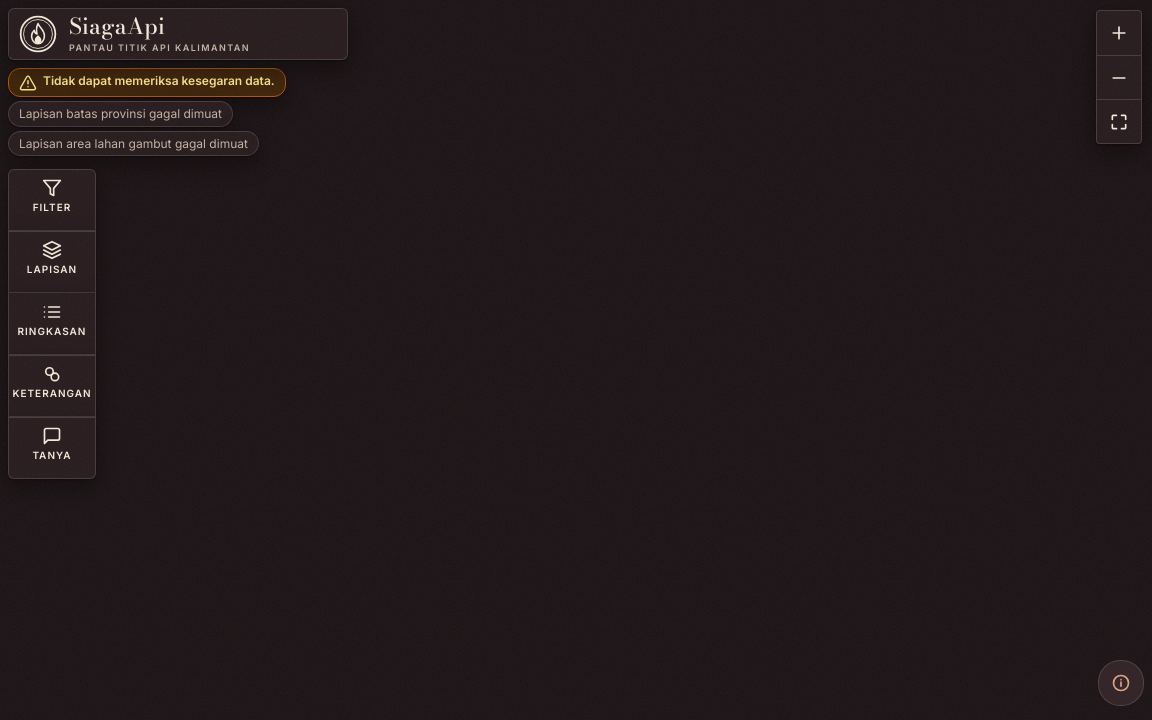
Test: Escape closes the open panel and puts focus back on its button
This screenshot has width=1152, height=720.
Click the button "Filter" at (52, 200), box [9,178,95,222]
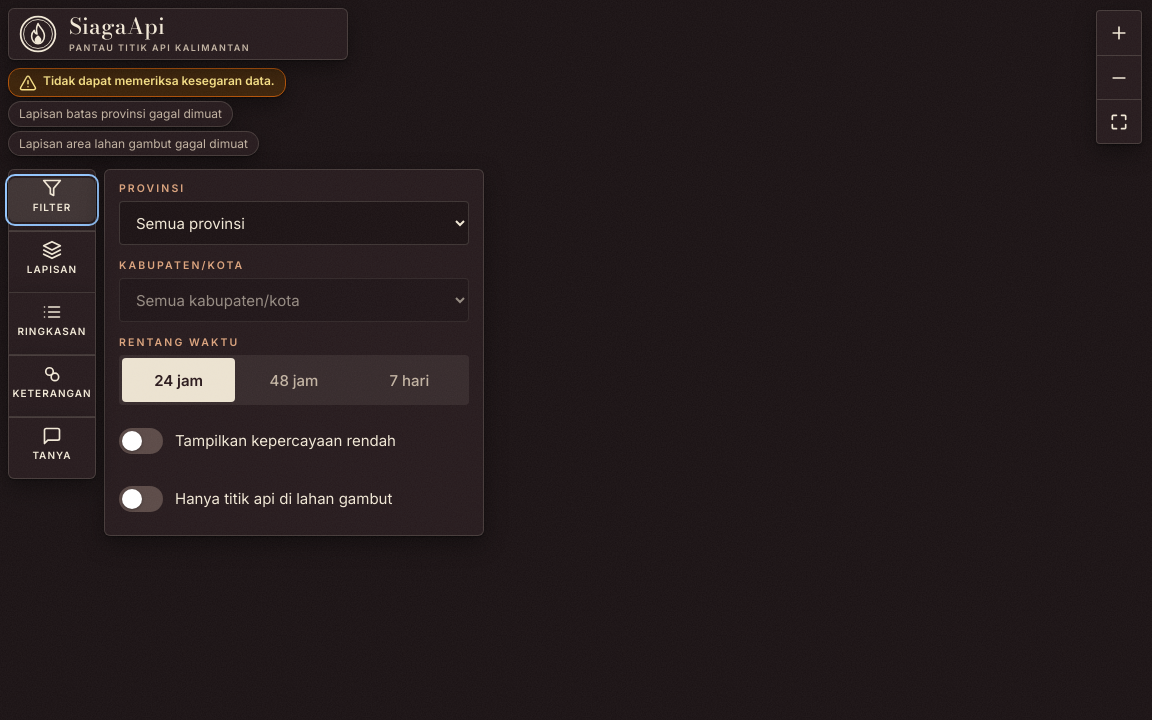
Result: the dropdown labelled "Provinsi" is shown at [119,201,469,245]
Press Escape
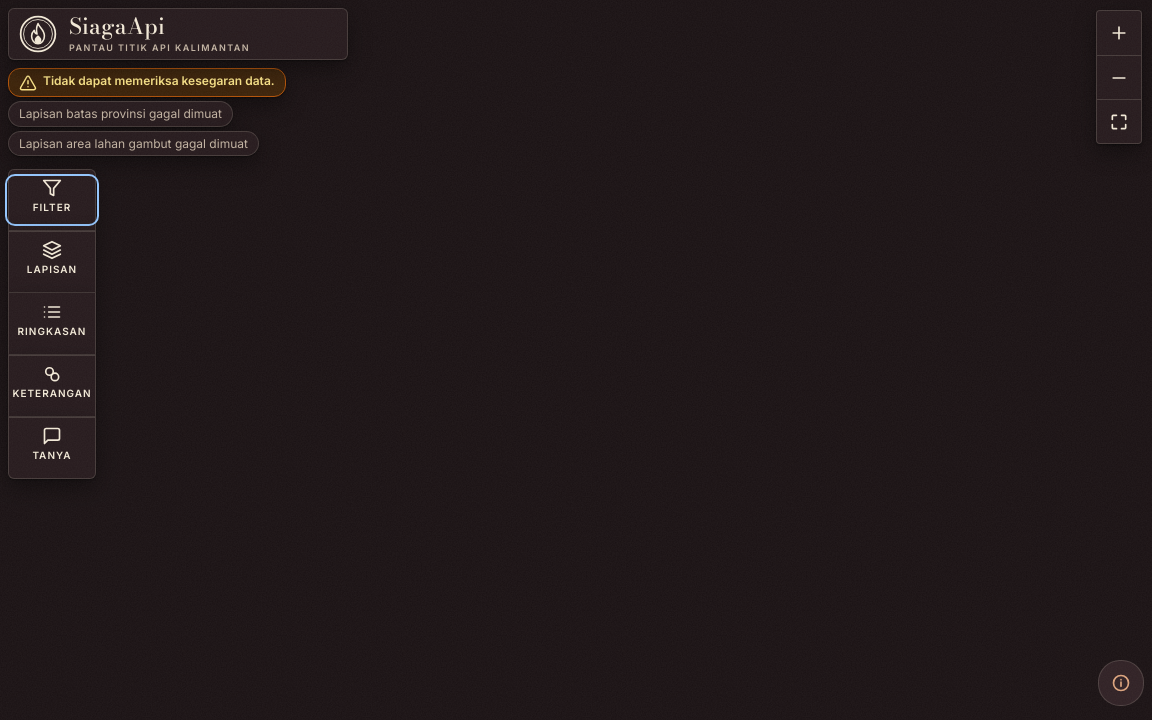
Result: the button "Filter" is collapsed at [9,178,95,222]
